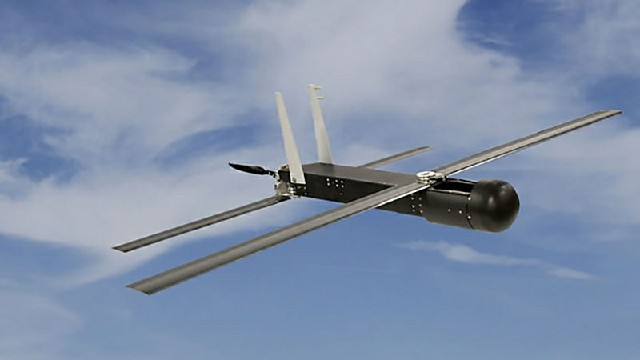maybay_khongnguoilai: (127, 91, 618, 308)
